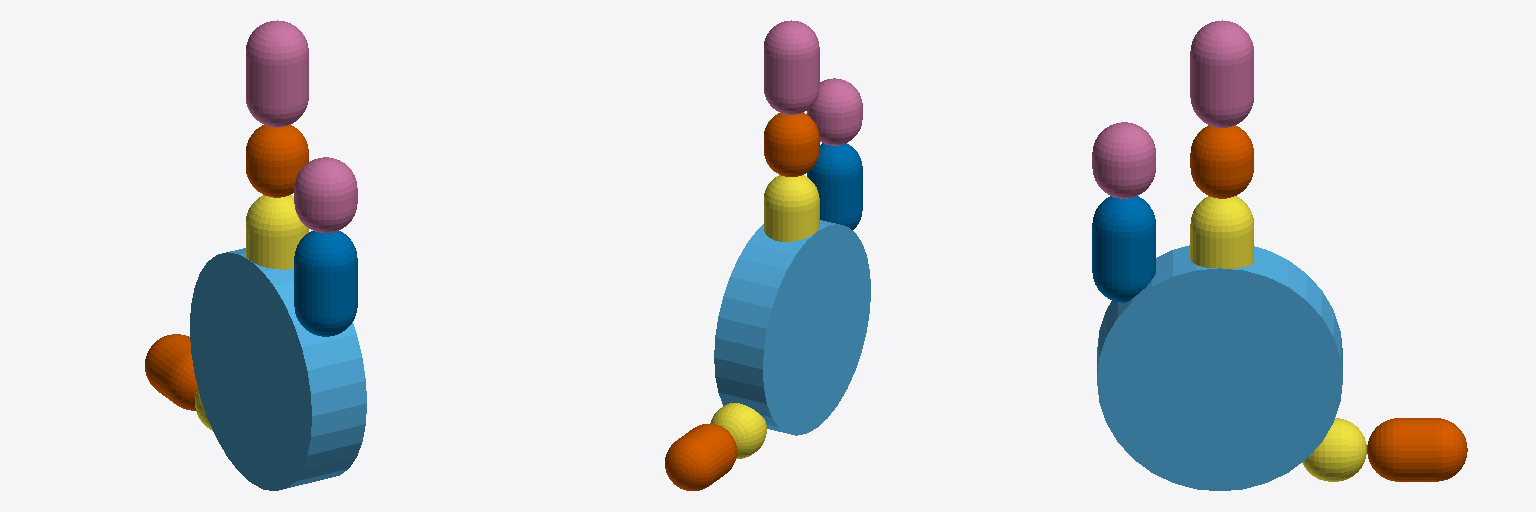
URDF robot description (DexterousHand):
<?xml version="1.0"?>
<robot name="DexterousHand">


    <link name="world"/>
    <joint name="world_to_palm" type="fixed">
        <parent link="world"/>
        <child link="palm"/>
        <origin xyz="0 0 0" rpy="0 0 0"/>
    </joint>
    <link name="palm">
        <inertial>
            <origin xyz="0 0 0.057" rpy="0 0 0"/>
            <mass value="0.30212892864"/>
            <inertia ixx="0.00049080844457568" ixy="0.0" ixz="0.0" iyy="0.00026746366246427523" iyz="0.0" izz="0.00026746366246427523"/>
        </inertial>
        <visual>
            <origin xyz="0 0 0.057" rpy="1.5708 0 1.5708"/>
            <geometry>
                <cylinder radius="0.057" length="0.0296"/>
            </geometry>
            <material name="default"/>
        </visual>
        <collision>
            <origin xyz="0 0 0.057" rpy="1.5708 0 1.5708"/>
            <geometry>
                <cylinder radius="0.057" length="0.0296"/>
            </geometry>
        </collision>
    </link>

    
    <joint name="thumb_joint1" type="revolute">
        <parent link="palm"/>
        <child link="thumb_base"/>
        <origin xyz="0.0029 0.0368 0.0157" rpy="-1.5708 -1.5708 0.0"/>
        <axis xyz="-1 0 0"/>
        <limit lower="-0.349" upper="2.094" effort="1.0" velocity="1.0"/>
    </joint>

    <link name="thumb_base"></link>

    <joint name="thumb_joint2" type="revolute">
        <parent link="thumb_base"/>
        <child link="thumb_proximal"/>
        <origin xyz="0.0 0.0 0.0" rpy="0.0 0.0 0.0"/>
        <axis xyz="0 0 1"/>
        <limit lower="-0.47" upper="2.443" effort="1.0" velocity="1.0"/>
    </joint>

    <link name="thumb_proximal">
        <inertial>
            <origin xyz="0 0 0.01565" rpy="0 0 0"/>
            <mass value="0.021538658803200002"/>
            <inertia ixx="2.9378910096388167e-06" ixy="0.0" ixz="0.0" 
            iyy="2.9378910096388167e-06" iyz="0.0" izz="2.358913912126464e-06"/>
        </inertial>
        <visual>
            <origin xyz="0 0 0.01565" rpy="0 0 0"/>
            <geometry>
                <cylinder radius="0.0148" length="0.0017000000000000001"/>
            </geometry>
            <material name="default"/>
        </visual>
        <visual>
            <origin xyz="0 0 0.0148" rpy="0 0 0"/>
            <geometry>
                <sphere radius="0.0148"/>
            </geometry>
            <material name="default"/>
        </visual>
        <visual>
            <origin xyz="0 0 0.0165" rpy="0 0 0"/>
            <geometry>
                <sphere radius="0.0148"/>
            </geometry>
            <material name="default"/>
        </visual>
        <collision>
            <origin xyz="0 0 0.01565" rpy="0 0 0"/>
            <geometry>
                <cylinder radius="0.0148" length="0.0017000000000000001"/>
            </geometry>
        </collision>
        <collision>
            <origin xyz="0 0 0.0148" rpy="0 0 0"/>
            <geometry>
                <sphere radius="0.0148"/>
            </geometry>
        </collision>
        <collision>
            <origin xyz="0 0 0.0165" rpy="0 0 0"/>
            <geometry>
                <sphere radius="0.0148"/>
            </geometry>
        </collision>
    </link>

    <joint name="thumb_joint3" type="revolute">
        <parent link="thumb_proximal"/>
        <child link="thumb_knuckle"/>
        <origin xyz="0.0 0.0 0.0313" rpy="0.0 0.0 0.0"/>
        <axis xyz="1 0 0"/>
        <limit lower="0.0" upper="0.0" effort="1.0" velocity="1.0"/>
    </joint>

    <link name="thumb_knuckle"></link>

    <joint name="thumb_joint4" type="revolute">
        <parent link="thumb_knuckle"/>
        <child link="thumb_middle"/>
        <origin xyz="0 0 0" rpy="0 0 0"/> 
        <axis xyz="0 1 0"/>
        <limit lower="-1.2" upper="1.9" effort="1.0" velocity="1.0"/>
    </joint>

    <link name="thumb_middle">
        <inertial>
            <origin xyz="0 0 0.0233" rpy="0 0 0"/>
            <mass value="0.032067140582400004"/>
            <inertia ixx="7.5589732685519385e-06" ixy="0.0" ixz="0.0" 
            iyy="7.5589732685519385e-06" iyz="0.0" izz="3.5119932365844485e-06"/>
        </inertial>
        <visual>
            <origin xyz="0 0 0.0233" rpy="0 0 0"/>
            <geometry>
                <cylinder radius="0.0148" length="0.017"/>
            </geometry>
            <material name="default"/>
        </visual>
        <visual>
            <origin xyz="0 0 0.0148" rpy="0 0 0"/>
            <geometry>
                <sphere radius="0.0148"/>
            </geometry>
            <material name="default"/>
        </visual>
        <visual>
            <origin xyz="0 0 0.0318" rpy="0 0 0"/>
            <geometry>
                <sphere radius="0.0148"/>
            </geometry>
            <material name="default"/>
        </visual>
        <collision>
            <origin xyz="0 0 0.0233" rpy="0 0 0"/>
            <geometry>
                <cylinder radius="0.0148" length="0.017"/>
            </geometry>
        </collision>
        <collision>
            <origin xyz="0 0 0.0148" rpy="0 0 0"/>
            <geometry>
                <sphere radius="0.0148"/>
            </geometry>
        </collision>
        <collision>
            <origin xyz="0 0 0.0318" rpy="0 0 0"/>
            <geometry>
                <sphere radius="0.0148"/>
            </geometry>
        </collision>
    </link>

    <joint name="thumb_joint5" type="revolute">
        <parent link="thumb_middle"/>
        <child link="thumb_distal"/>
        <origin xyz="0 0 0.0466" rpy="0 0 0"/> 
        <axis xyz="0 1 0"/>
        <limit lower="0.0" upper="0.0" effort="1.0" velocity="1.0"/>
    </joint>

    <link name="thumb_distal">
    </link>

    
    <joint name="index_joint1" type="revolute">
        <parent link="palm"/>
        <child link="index_proximal"/>
        <origin xyz="0.0 0.0 0.0" rpy="0.0 0.0 0.0"/>
        <axis xyz="1 0 0"/>
        <limit lower="0.0" upper="0.0" effort="1.0" velocity="1.0"/>
    </joint>

    <link name="index_proximal">
    </link>

    <joint name="index_joint2" type="revolute">
        <parent link="index_proximal"/>
        <child link="index_dummy"/>
        <origin xyz="0.0 0.0 0.0" rpy="0.0 0.0 0.0"/>
        <axis xyz="0 1 0"/>
        <limit lower="0.0" upper="0.0" effort="1.0" velocity="1.0"/>
    </joint>

    <link name="index_dummy"></link>

    <joint name="index_joint3" type="revolute">
        <parent link="index_dummy"/>
        <child link="index_middle"/>
        <origin xyz="0 0 0" rpy="0 0 0"/>
        <axis xyz="0 1 0"/>
        <limit lower="0.0" upper="0.0" effort="1.0" velocity="1.0"/>
    </joint>

    <link name="index_middle">
    </link>

    <joint name="index_joint4" type="revolute">
        <parent link="index_middle"/>
        <child link="index_distal"/>
        <origin xyz="0 0 0" rpy="0 0 0"/> 
        <axis xyz="0 1 0"/>
        <limit lower="0.0" upper="0.0" effort="1.0" velocity="1.0"/>
    </joint>

    <link name="index_distal">
    </link>

    
    <joint name="middle_joint1" type="revolute">
        <parent link="palm"/>
        <child link="middle_proximal"/>
        <origin xyz="0.0 0.0011 0.091" rpy="0.0 0.0 0.0"/>
        <axis xyz="0 1 0"/>
        <limit lower="-0.314" upper="2.23" effort="1.0" velocity="1.0"/>
    </joint>

    <link name="middle_proximal">
        <inertial>
            <origin xyz="0 0 0.02655" rpy="0 0 0"/>
            <mass value="0.036540024998400006"/>
            <inertia ixx="1.058665009272394e-05" ixy="0.0" ixz="0.0" 
            iyy="1.058665009272394e-05" iyz="0.0" izz="4.001863537824769e-06"/>
        </inertial>
        <visual>
            <origin xyz="0 0 0.02655" rpy="0 0 0"/>
            <geometry>
                <cylinder radius="0.0148" length="0.0235"/>
            </geometry>
            <material name="default"/>
        </visual>
        <visual>
            <origin xyz="0 0 0.0148" rpy="0 0 0"/>
            <geometry>
                <sphere radius="0.0148"/>
            </geometry>
            <material name="default"/>
        </visual>
        <visual>
            <origin xyz="0 0 0.0383" rpy="0 0 0"/>
            <geometry>
                <sphere radius="0.0148"/>
            </geometry>
            <material name="default"/>
        </visual>
        <collision>
            <origin xyz="0 0 0.02655" rpy="0 0 0"/>
            <geometry>
                <cylinder radius="0.0148" length="0.0235"/>
            </geometry>
        </collision>
        <collision>
            <origin xyz="0 0 0.0148" rpy="0 0 0"/>
            <geometry>
                <sphere radius="0.0148"/>
            </geometry>
        </collision>
        <collision>
            <origin xyz="0 0 0.0383" rpy="0 0 0"/>
            <geometry>
                <sphere radius="0.0148"/>
            </geometry>
        </collision>
    </link>

    <joint name="middle_joint2" type="revolute">
        <parent link="middle_proximal"/>
        <child link="middle_dummy"/>
        <origin xyz="0.0 0.0 0.038" rpy="0.0 0.0 0.0"/>
        <axis xyz="1 0 0"/>
        <limit lower="-1.047" upper="1.047" effort="1.0" velocity="1.0"/>
    </joint>

    <link name="middle_dummy"></link>

    <joint name="middle_joint3" type="revolute">
        <parent link="middle_dummy"/>
        <child link="middle_middle"/>
        <origin xyz="0 0 0.015100000000000002" rpy="0 0 0"/>
        <axis xyz="0 1 0"/>
        <limit lower="-0.506" upper="1.885" effort="1.0" velocity="1.0"/>
    </joint>

    <link name="middle_middle">
        <inertial>
            <origin xyz="0 0 0.01805" rpy="0 0 0"/>
            <mass value="0.0248417119104"/>
            <inertia ixx="4.058162759109537e-06" ixy="0.0" ixz="0.0" 
            iyy="4.058162759109537e-06" iyz="0.0" izz="2.7206642884270085e-06"/>
        </inertial>
        <visual>
            <origin xyz="0 0 0.01805" rpy="0 0 0"/>
            <geometry>
                <cylinder radius="0.0148" length="0.006499999999999999"/>
            </geometry>
            <material name="default"/>
        </visual>
        <visual>
            <origin xyz="0 0 0.0148" rpy="0 0 0"/>
            <geometry>
                <sphere radius="0.0148"/>
            </geometry>
            <material name="default"/>
        </visual>
        <visual>
            <origin xyz="0 0 0.0213" rpy="0 0 0"/>
            <geometry>
                <sphere radius="0.0148"/>
            </geometry>
            <material name="default"/>
        </visual>
        <collision>
            <origin xyz="0 0 0.01805" rpy="0 0 0"/>
            <geometry>
                <cylinder radius="0.0148" length="0.006499999999999999"/>
            </geometry>
        </collision>
        <collision>
            <origin xyz="0 0 0.0148" rpy="0 0 0"/>
            <geometry>
                <sphere radius="0.0148"/>
            </geometry>
        </collision>
        <collision>
            <origin xyz="0 0 0.0213" rpy="0 0 0"/>
            <geometry>
                <sphere radius="0.0148"/>
            </geometry>
        </collision>
    </link>

    <joint name="middle_joint4" type="revolute">
        <parent link="middle_middle"/>
        <child link="middle_distal"/>
        <origin xyz="0 0 0.0361" rpy="0 0 0"/> 
        <axis xyz="0 1 0"/>
        <limit lower="-0.366" upper="2.042" effort="1.0" velocity="1.0"/>
    </joint>

    <link name="middle_distal">
        <inertial>
            <origin xyz="0 0 0.026" rpy="0 0 0"/>
            <mass value="0.035783075328"/>
            <inertia ixx="1.002260084553728e-05" ixy="0.0" ixz="0.0" 
            iyy="1.002260084553728e-05" iyz="0.0" izz="3.91896240992256e-06"/>
        </inertial>
        <visual>
            <origin xyz="0 0 0.026" rpy="0 0 0"/>
            <geometry>
                <cylinder radius="0.0148" length="0.022399999999999996"/>
            </geometry>
            <material name="default"/>
        </visual>
        <visual>
            <origin xyz="0 0 0.0148" rpy="0 0 0"/>
            <geometry>
                <sphere radius="0.0148"/>
            </geometry>
            <material name="default"/>
        </visual>
        <visual>
            <origin xyz="0 0 0.0372" rpy="0 0 0"/>
            <geometry>
                <sphere radius="0.0148"/>
            </geometry>
            <material name="default"/>
        </visual>
        <collision>
            <origin xyz="0 0 0.026" rpy="0 0 0"/>
            <geometry>
                <cylinder radius="0.0148" length="0.022399999999999996"/>
            </geometry>
        </collision>
        <collision>
            <origin xyz="0 0 0.0148" rpy="0 0 0"/>
            <geometry>
                <sphere radius="0.0148"/>
            </geometry>
        </collision>
        <collision>
            <origin xyz="0 0 0.0372" rpy="0 0 0"/>
            <geometry>
                <sphere radius="0.0148"/>
            </geometry>
        </collision>
    </link>

    
    <joint name="ring_joint1" type="revolute">
        <parent link="palm"/>
        <child link="ring_proximal"/>
        <origin xyz="0.0 0.0 0.0" rpy="0.0 0.0 0.0"/>
        <axis xyz="1 0 0"/>
        <limit lower="0.0" upper="0.0" effort="1.0" velocity="1.0"/>
    </joint>

    <link name="ring_proximal">
    </link>

    <joint name="ring_joint2" type="revolute">
        <parent link="ring_proximal"/>
        <child link="ring_dummy"/>
        <origin xyz="0.0 0.0 0.0" rpy="0.0 0.0 0.0"/>
        <axis xyz="0 1 0"/>
        <limit lower="0.0" upper="0.0" effort="1.0" velocity="1.0"/>
    </joint>

    <link name="ring_dummy"></link>

    <joint name="ring_joint3" type="revolute">
        <parent link="ring_dummy"/>
        <child link="ring_middle"/>
        <origin xyz="0 0 0" rpy="0 0 0"/>
        <axis xyz="0 1 0"/>
        <limit lower="0.0" upper="0.0" effort="1.0" velocity="1.0"/>
    </joint>

    <link name="ring_middle">
    </link>

    <joint name="ring_joint4" type="revolute">
        <parent link="ring_middle"/>
        <child link="ring_distal"/>
        <origin xyz="0 0 0" rpy="0 0 0"/> 
        <axis xyz="0 1 0"/>
        <limit lower="0.0" upper="0.0" effort="1.0" velocity="1.0"/>
    </joint>

    <link name="ring_distal">
    </link>

    
    <joint name="little_joint0" type="revolute">
        <parent link="palm"/>
        <child link="little_base"/>
        <origin xyz="0.0 0.0 0.0" rpy="0.0 0.0 0.0"/>
        <axis xyz="0 1 0"/>
        <limit lower="0.0" upper="0.0" effort="1.0" velocity="1.0"/>
    </joint>

    <link name="little_base"></link>

    <joint name="little_joint1" type="revolute">
        <parent link="little_base"/>
        <child link="little_proximal"/>
        <origin xyz="0.0 -0.0443 0.091" rpy="-0.0 -0.0 -0.0"/>
        <axis xyz="0 1 0"/>
        <limit lower="-0.314" upper="2.23" effort="1.0" velocity="1.0"/>
    </joint>

    <link name="little_proximal">
        <inertial>
            <origin xyz="0 0 0.02655" rpy="0 0 0"/>
            <mass value="0.036540024998400006"/>
            <inertia ixx="1.058665009272394e-05" ixy="0.0" ixz="0.0" 
            iyy="1.058665009272394e-05" iyz="0.0" izz="4.001863537824769e-06"/>
        </inertial>
        <visual>
            <origin xyz="0 0 0.02655" rpy="0 0 0"/>
            <geometry>
                <cylinder radius="0.0148" length="0.0235"/>
            </geometry>
            <material name="default"/>
        </visual>
        <visual>
            <origin xyz="0 0 0.0148" rpy="0 0 0"/>
            <geometry>
                <sphere radius="0.0148"/>
            </geometry>
            <material name="default"/>
        </visual>
        <visual>
            <origin xyz="0 0 0.0383" rpy="0 0 0"/>
            <geometry>
                <sphere radius="0.0148"/>
            </geometry>
            <material name="default"/>
        </visual>
        <collision>
            <origin xyz="0 0 0.02655" rpy="0 0 0"/>
            <geometry>
                <cylinder radius="0.0148" length="0.0235"/>
            </geometry>
        </collision>
        <collision>
            <origin xyz="0 0 0.0148" rpy="0 0 0"/>
            <geometry>
                <sphere radius="0.0148"/>
            </geometry>
        </collision>
        <collision>
            <origin xyz="0 0 0.0383" rpy="0 0 0"/>
            <geometry>
                <sphere radius="0.0148"/>
            </geometry>
        </collision>
    </link>

    <joint name="little_joint2" type="revolute">
        <parent link="little_proximal"/>
        <child link="little_dummy"/>
        <origin xyz="0.0 0.0 0.038" rpy="0.0 0.0 0.0"/>
        <axis xyz="1 0 0"/>
        <limit lower="-1.047" upper="1.047" effort="1.0" velocity="1.0"/>
    </joint>

    <link name="little_dummy"></link>

    <joint name="little_joint3" type="revolute">
        <parent link="little_dummy"/>
        <child link="little_middle"/>
        <origin xyz="0 0 0.015100000000000002" rpy="0 0 0"/>
        <axis xyz="0 1 0"/>
        <limit lower="-0.506" upper="1.885" effort="1.0" velocity="1.0"/>
    </joint>

    <link name="little_middle">
        <inertial>
            <origin xyz="0 0 0.01805" rpy="0 0 0"/>
            <mass value="0.0248417119104"/>
            <inertia ixx="4.058162759109537e-06" ixy="0.0" ixz="0.0" 
            iyy="4.058162759109537e-06" iyz="0.0" izz="2.7206642884270085e-06"/>
        </inertial>
        <visual>
            <origin xyz="0 0 0.01805" rpy="0 0 0"/>
            <geometry>
                <cylinder radius="0.0148" length="0.006499999999999999"/>
            </geometry>
            <material name="default"/>
        </visual>
        <visual>
            <origin xyz="0 0 0.0148" rpy="0 0 0"/>
            <geometry>
                <sphere radius="0.0148"/>
            </geometry>
            <material name="default"/>
        </visual>
        <visual>
            <origin xyz="0 0 0.0213" rpy="0 0 0"/>
            <geometry>
                <sphere radius="0.0148"/>
            </geometry>
            <material name="default"/>
        </visual>
        <collision>
            <origin xyz="0 0 0.01805" rpy="0 0 0"/>
            <geometry>
                <cylinder radius="0.0148" length="0.006499999999999999"/>
            </geometry>
        </collision>
        <collision>
            <origin xyz="0 0 0.0148" rpy="0 0 0"/>
            <geometry>
                <sphere radius="0.0148"/>
            </geometry>
        </collision>
        <collision>
            <origin xyz="0 0 0.0213" rpy="0 0 0"/>
            <geometry>
                <sphere radius="0.0148"/>
            </geometry>
        </collision>
    </link>

    <joint name="little_joint4" type="revolute">
        <parent link="little_middle"/>
        <child link="little_distal"/>
        <origin xyz="0 0 0.0361" rpy="0 0 0"/>
        <axis xyz="0 1 0"/>
        <limit lower="0.0" upper="0.0" effort="1.0" velocity="1.0"/>
    </joint>

    <link name="little_distal">
    </link>

</robot>

--- Render facts (derived) ---
3 views of the same robot in one strip: view 1: azimuth 30°, elevation 25°; view 2: azimuth 150°, elevation 25°; view 3: azimuth 270°, elevation 25° (orthographic).
Model DexterousHand with 24 links and 23 joints (22 revolute, 1 fixed), rooted at world, posed every joint at zero.
Links seen in each view (by area): view 1: palm, little_proximal, middle_distal, little_middle, middle_middle, middle_proximal, thumb_middle; view 2: palm, middle_distal, thumb_middle, little_proximal, middle_proximal, middle_middle, little_middle, thumb_proximal; view 3: palm, middle_distal, little_proximal, thumb_middle, middle_proximal, little_middle, middle_middle, thumb_proximal.
Link boxes in pixels (left/top/right/bottom): palm: left=190, top=248, right=366, bottom=490; little_proximal: left=294, top=231, right=357, bottom=336; middle_distal: left=246, top=20, right=308, bottom=127; little_middle: left=294, top=157, right=357, bottom=232; middle_middle: left=246, top=125, right=308, bottom=197; middle_proximal: left=246, top=195, right=308, bottom=269; thumb_middle: left=145, top=334, right=197, bottom=410; palm: left=714, top=220, right=870, bottom=435; middle_distal: left=764, top=20, right=819, bottom=114; thumb_middle: left=665, top=424, right=736, bottom=490; little_proximal: left=807, top=143, right=862, bottom=229; middle_proximal: left=764, top=175, right=819, bottom=241; middle_middle: left=764, top=113, right=819, bottom=176; little_middle: left=807, top=78, right=862, bottom=145; thumb_proximal: left=710, top=403, right=766, bottom=458; palm: left=1097, top=245, right=1342, bottom=490; middle_distal: left=1190, top=20, right=1253, bottom=127; little_proximal: left=1092, top=196, right=1155, bottom=302; thumb_middle: left=1367, top=418, right=1467, bottom=481; middle_proximal: left=1190, top=196, right=1253, bottom=268; little_middle: left=1092, top=122, right=1155, bottom=198; middle_middle: left=1190, top=125, right=1253, bottom=198; thumb_proximal: left=1302, top=418, right=1366, bottom=481.
Size in the robot's own frame: 0.0325 by 0.1738 by 0.2322 metres.
Geometry: primitives only (box / cylinder / sphere), no mesh files.
